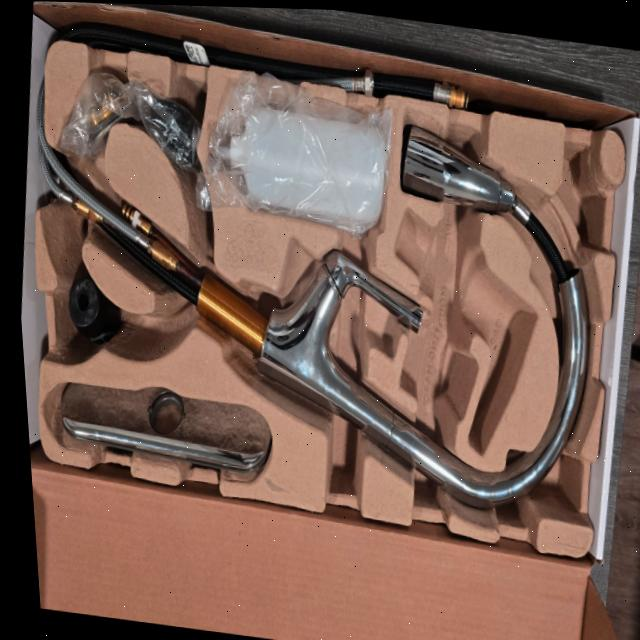1: (38, 125, 587, 508)
2m: (393, 212, 535, 453)
3: (208, 103, 388, 227)
4: (61, 382, 270, 477)
5: (65, 275, 118, 345)
6: (54, 69, 138, 162)
7: (131, 85, 202, 175)
